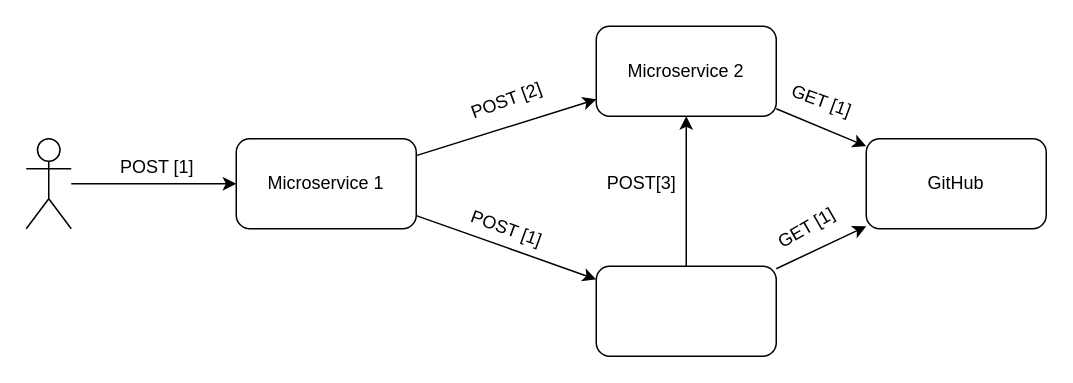
Some shapes in this 1073 by 383 pixel diagram are drawn without their labels. The box of each missing label's shape, as (x1, y1, x2, y2) in pixels:
Actor: (25, 137, 71, 229)
Microservice 3: (595, 265, 776, 356)
